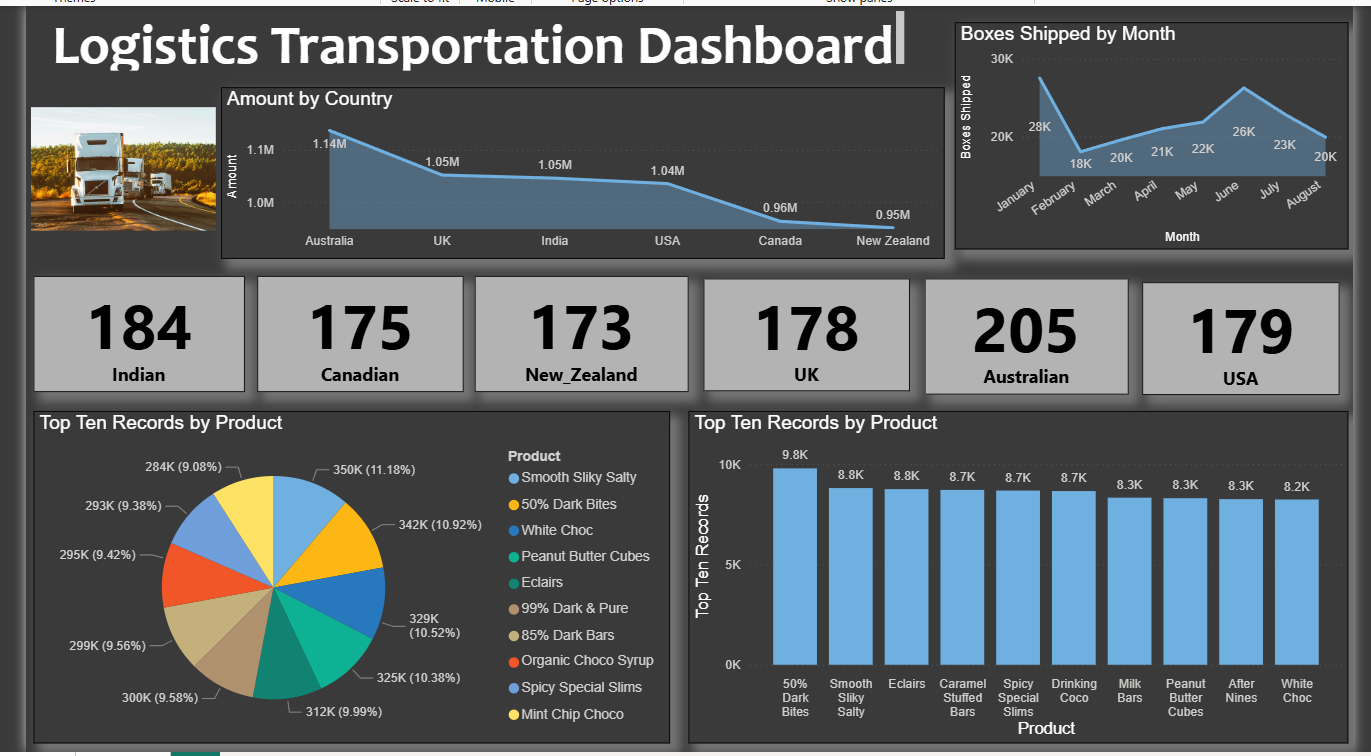

The dashboard page shown, as its layout file describes it:
{"tool":"powerbi","page":{"name":"Page 2","canvas":[1280,720],"ordinal":0},"visuals":[{"type":"card","fields":{"Values":["data.Indian"]},"box":[7.2,260.6,203.9,112.2],"z":0},{"type":"card","fields":{"Values":["data.Canadian"]},"box":[223.2,260.6,199.1,112.2],"z":1000},{"type":"card","fields":{"Values":["data.New_Zealand"]},"box":[433.1,260.6,206.3,112.2],"z":2000},{"type":"card","fields":{"Values":["data.Australian"]},"box":[867.4,263,196.6,112.2],"z":3000},{"type":"card","fields":{"Values":["data.USA"]},"box":[1077.4,266.6,190.6,108.6],"z":4000},{"type":"card","fields":{"Values":["data.UK"]},"box":[653.9,263,199.1,108.6],"z":5000},{"type":"areaChart","fields":{"Category":["data.Country"],"Y":["Sum(data.Amount)"]},"box":[188.2,78.4,698.5,165.3],"z":6000},{"type":"columnChart","fields":{"Y":["Sum(data.Boxes Shipped)"],"Category":["data.Product"]},"box":[639.4,390.9,637,320.9],"z":7000},{"type":"textbox","box":[20.5,0,832.4,67.6],"z":8000},{"type":"stackedAreaChart","fields":{"Y":["Sum(data.Boxes Shipped)"],"Category":["data.Date.Variation.Date Hierarchy.Month"]},"box":[896.4,15.7,380,219.6],"z":9000},{"type":"pieChart","fields":{"Y":["Sum(data.Amount)"],"Category":["data.Product"]},"box":[7.2,390.9,614.1,320.9],"z":10000},{"type":"image","box":[0,78.4,188.2,156.8],"z":11000}]}

Visuals, with their boxes on the page's 1280x720 design canvas (x1, y1, x2, y2). These are canvas units, not pixel positions in the 1371x756 screenshot, which may show the page scaled, cropped or inside an application window:
card - data.Indian: 7:261:211:373
card - data.Canadian: 223:261:422:373
card - data.New_Zealand: 433:261:639:373
card - data.Australian: 867:263:1064:375
card - data.USA: 1077:267:1268:375
card - data.UK: 654:263:853:372
areaChart - data.Country x Sum(data.Amount): 188:78:887:244
columnChart - Sum(data.Boxes Shipped) x data.Product: 639:391:1276:712
textbox: 20:0:853:68
stackedAreaChart - Sum(data.Boxes Shipped) x data.Date.Variation.Date Hierarchy.Month: 896:16:1276:235
pieChart - Sum(data.Amount) x data.Product: 7:391:621:712
image: 0:78:188:235
